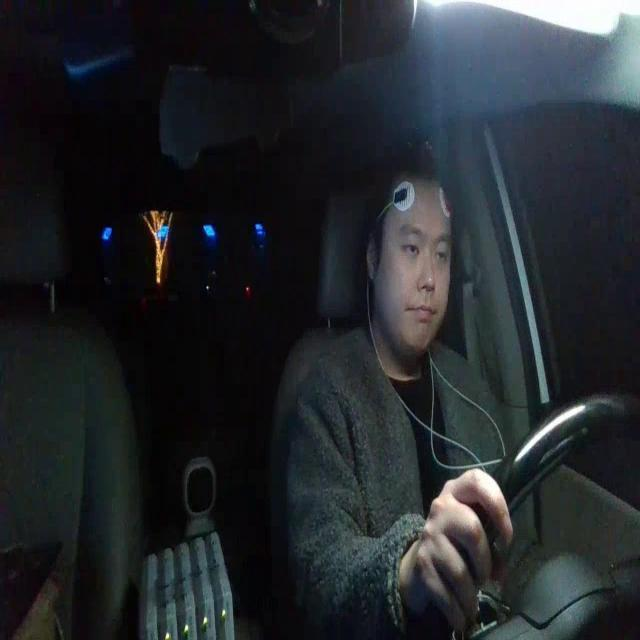Attentive: (364, 148, 450, 355)
